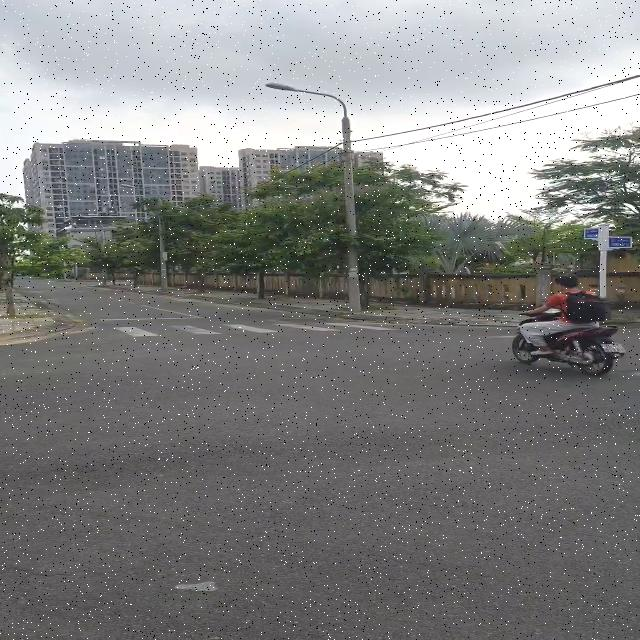no_helmet: (549, 270, 583, 292)
